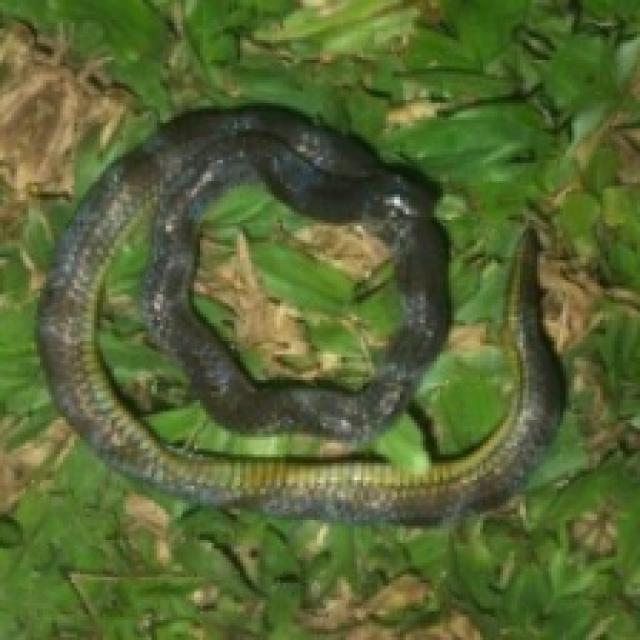gervais worm snake: (37, 106, 560, 520), (94, 217, 323, 457), (191, 180, 397, 389)
